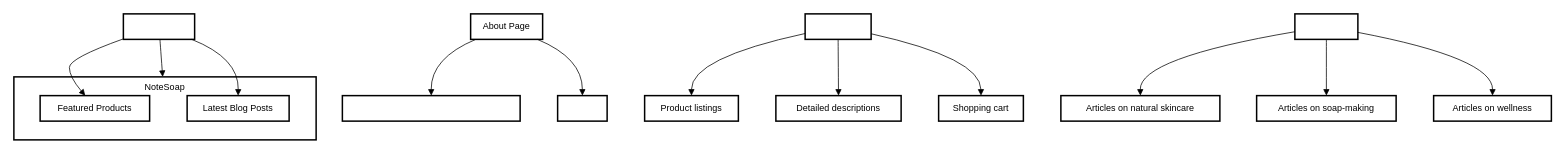
Some shapes in this 1565 by 153 pixel diagram are drawn without their labels. Each missing label, with the centre of its shape:
Blog Page: (x=1326, y=26)
Home Page: (x=158, y=26)
Information about the business: (x=430, y=108)
Mission: (x=582, y=108)
Shop Page: (x=838, y=26)
